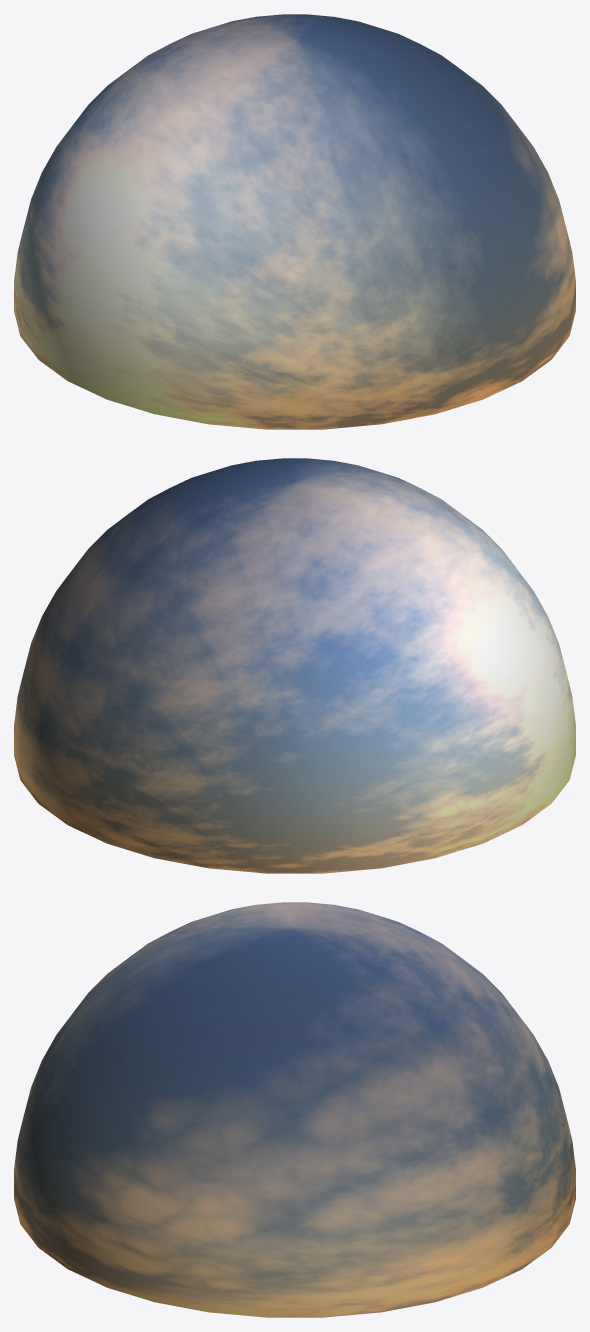
File: sky.obj
3 renders of one model, top to bottom at view 1: azimuth 30°, elevation 25°; view 2: azimuth 150°, elevation 25°; view 3: azimuth 270°, elevation 25°, orthographic.
Visible parts, largest first — view 1: Sky; view 2: Sky; view 3: Sky.
Boxes of the visible parts, x1,y1,x2,y2 form: Sky: (14,14,575,429); Sky: (14,458,575,873); Sky: (14,902,575,1317).
Size of the model in its own units: 19862 by 10628 by 19971.
